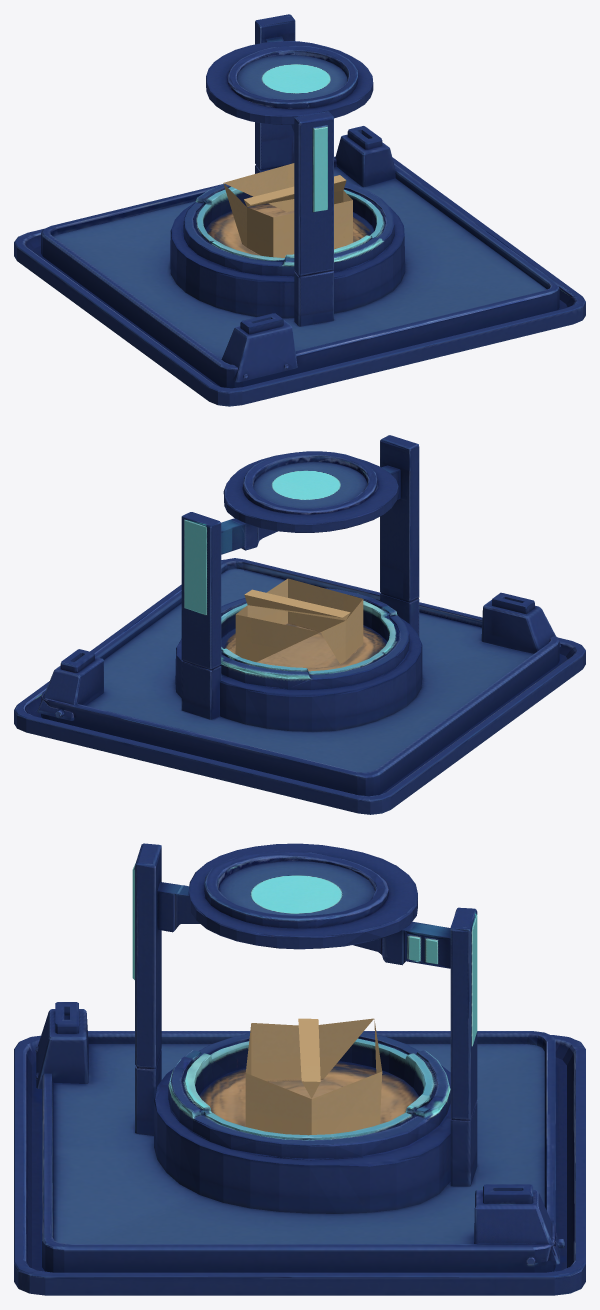
Rendered from inspection-dock.glb.
3 renders of one model, top to bottom at view 1: azimuth 30°, elevation 25°; view 2: azimuth 150°, elevation 25°; view 3: azimuth 270°, elevation 25°, orthographic. The views are drawn at different scales.
Visible parts, largest first — view 1: tripo_node_d986df9a-3d0e-40a8-8fe7-ecc76857cb38; view 2: tripo_node_d986df9a-3d0e-40a8-8fe7-ecc76857cb38; view 3: tripo_node_d986df9a-3d0e-40a8-8fe7-ecc76857cb38.
Boxes of the visible parts, x1,y1,x2,y2 form: tripo_node_d986df9a-3d0e-40a8-8fe7-ecc76857cb38: (14,14,585,406); tripo_node_d986df9a-3d0e-40a8-8fe7-ecc76857cb38: (14,435,585,814); tripo_node_d986df9a-3d0e-40a8-8fe7-ecc76857cb38: (14,843,585,1295).
Bounding box in the file's own units: 0.998 × 0.5645 × 0.998.
Materials: 1 (1 with a texture image).
